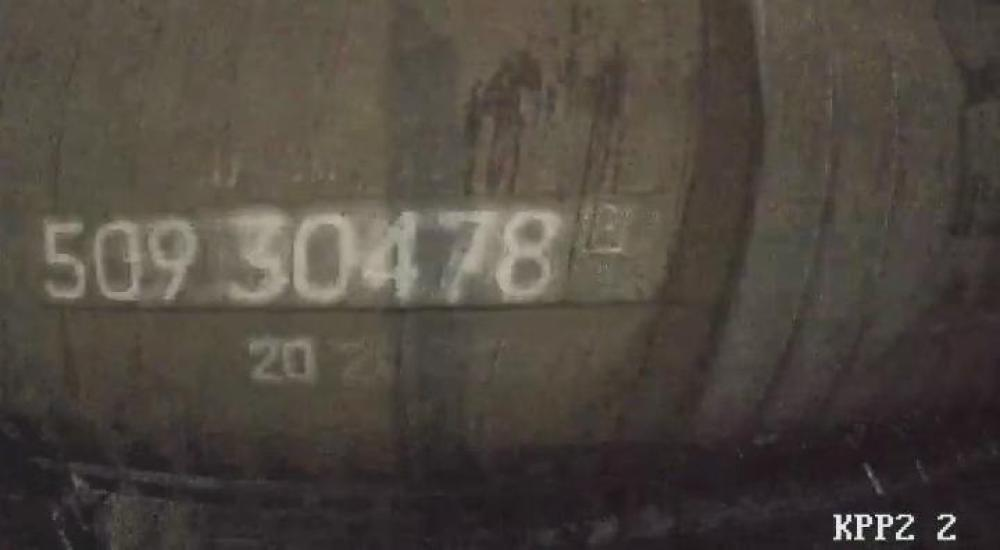Wagon-number: (33, 203, 572, 311)
